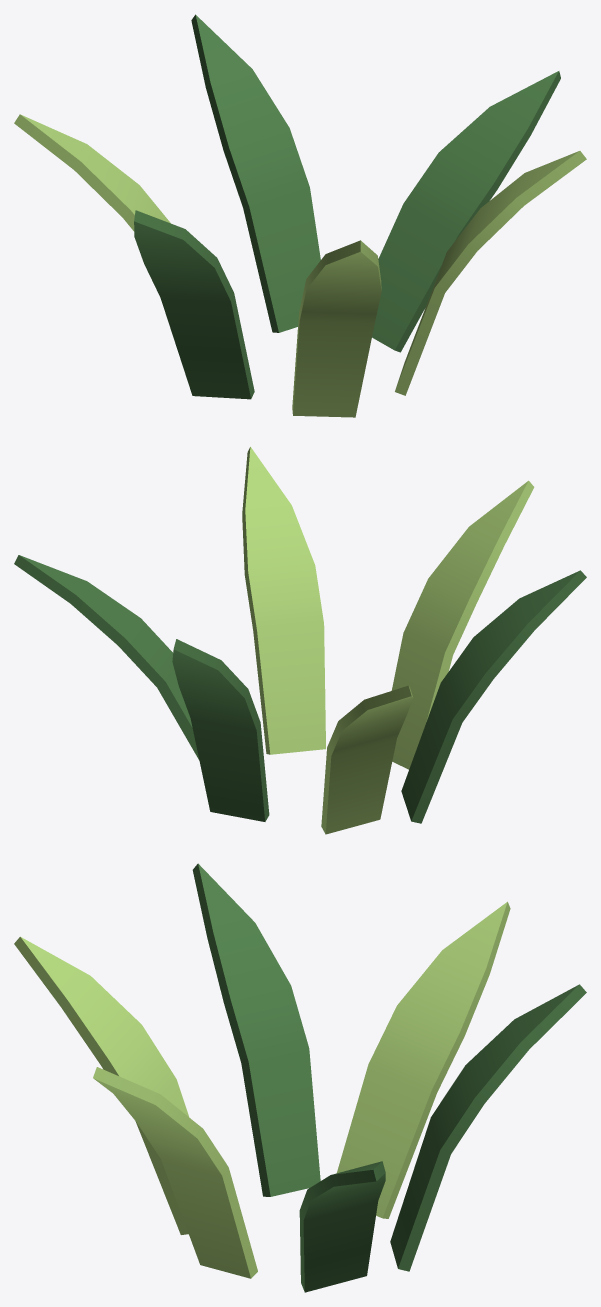
The model's file is Herbe_06.fbx.
The picture shows the model from 3 angles, top to bottom: view 1: azimuth 30°, elevation 25°; view 2: azimuth 150°, elevation 25°; view 3: azimuth 270°, elevation 25°; orthographic projection. The views are drawn at different scales.
Parts seen in each view (by area): view 1: Herbe_06; view 2: Herbe_06; view 3: Herbe_06.
Part boxes in pixels (<box>): Herbe_06: <box>14,14,586,417</box>; Herbe_06: <box>14,446,586,834</box>; Herbe_06: <box>14,863,586,1292</box>.
Size of the model in its own units: 61.63 by 29.69 by 56.89.
1 material, 1 textured.
